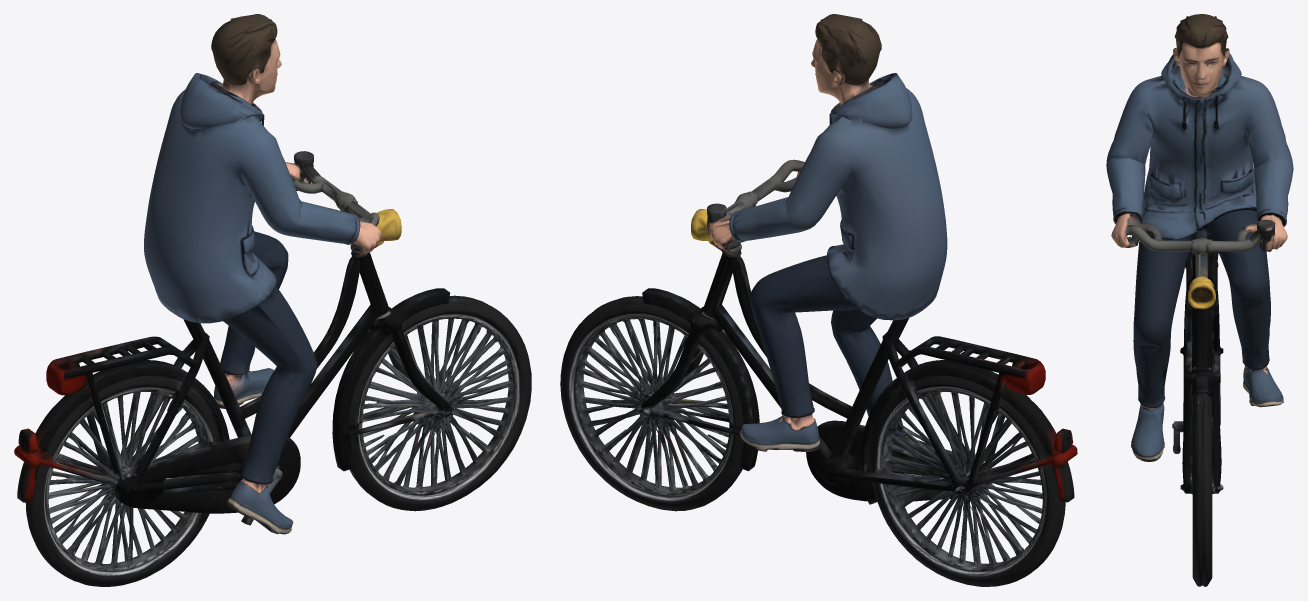
File: dutch_cyclist_0.glb
The picture shows the model from 3 angles, left to right: view 1: azimuth 30°, elevation 25°; view 2: azimuth 150°, elevation 25°; view 3: azimuth 270°, elevation 25°; orthographic projection. The views are drawn at different scales.
Visible parts, largest first — view 1: node_0; view 2: node_0; view 3: node_0.
Boxes of the visible parts, x1,y1,x2,y2 form: node_0: (14, 14, 531, 586); node_0: (560, 14, 1077, 586); node_0: (1106, 14, 1293, 586).
Bounding box in the file's own units: 0.9535 × 0.9535 × 0.3379.
1 material, 1 textured.
